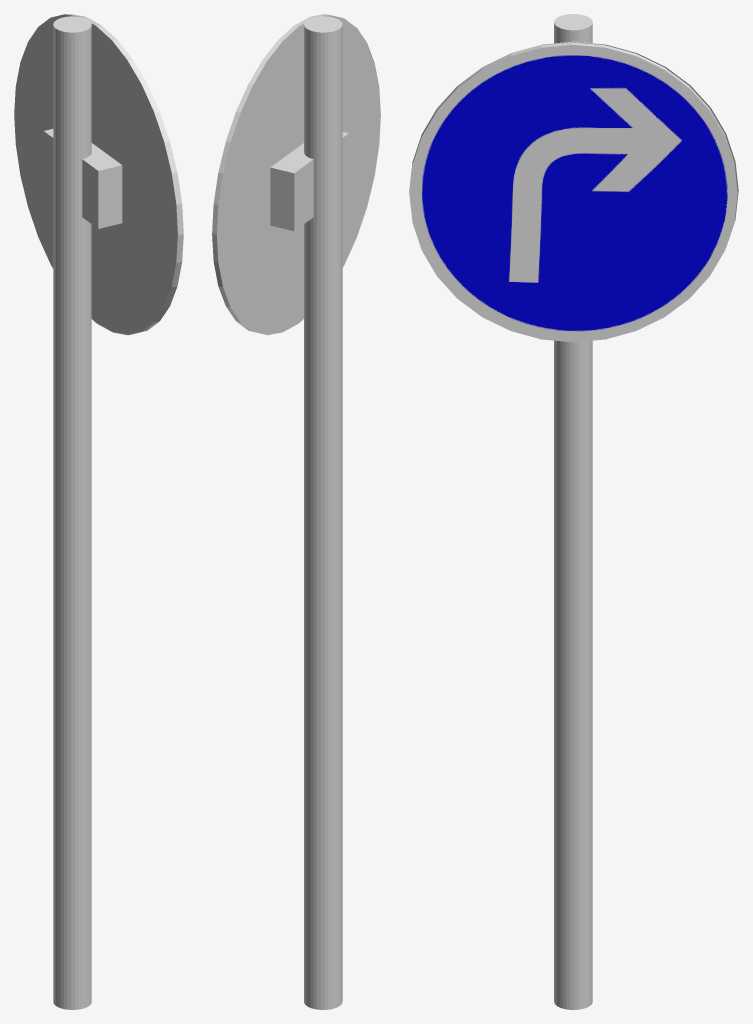
Rendered from Kanan.fbx.
3 views of the same model, side by side, from view 1: azimuth 30°, elevation 25°; view 2: azimuth 150°, elevation 25°; view 3: azimuth 270°, elevation 25° (orthographic).
Visible parts, largest first — view 1: Cylinder, Cylinder.001, Cube; view 2: Cylinder, Cylinder.001, Cube; view 3: Cylinder.001, Cylinder.
Boxes of the visible parts, x1,y1,x2,y2 form: Cylinder: [53, 16, 91, 1009]; Cylinder.001: [14, 14, 183, 335]; Cube: [43, 129, 122, 228]; Cylinder: [304, 16, 342, 1009]; Cylinder.001: [212, 14, 380, 335]; Cube: [270, 132, 348, 231]; Cylinder.001: [409, 41, 738, 342]; Cylinder: [554, 14, 592, 1009].
Bounding box in the file's own units: 35.85 × 727 × 222.
